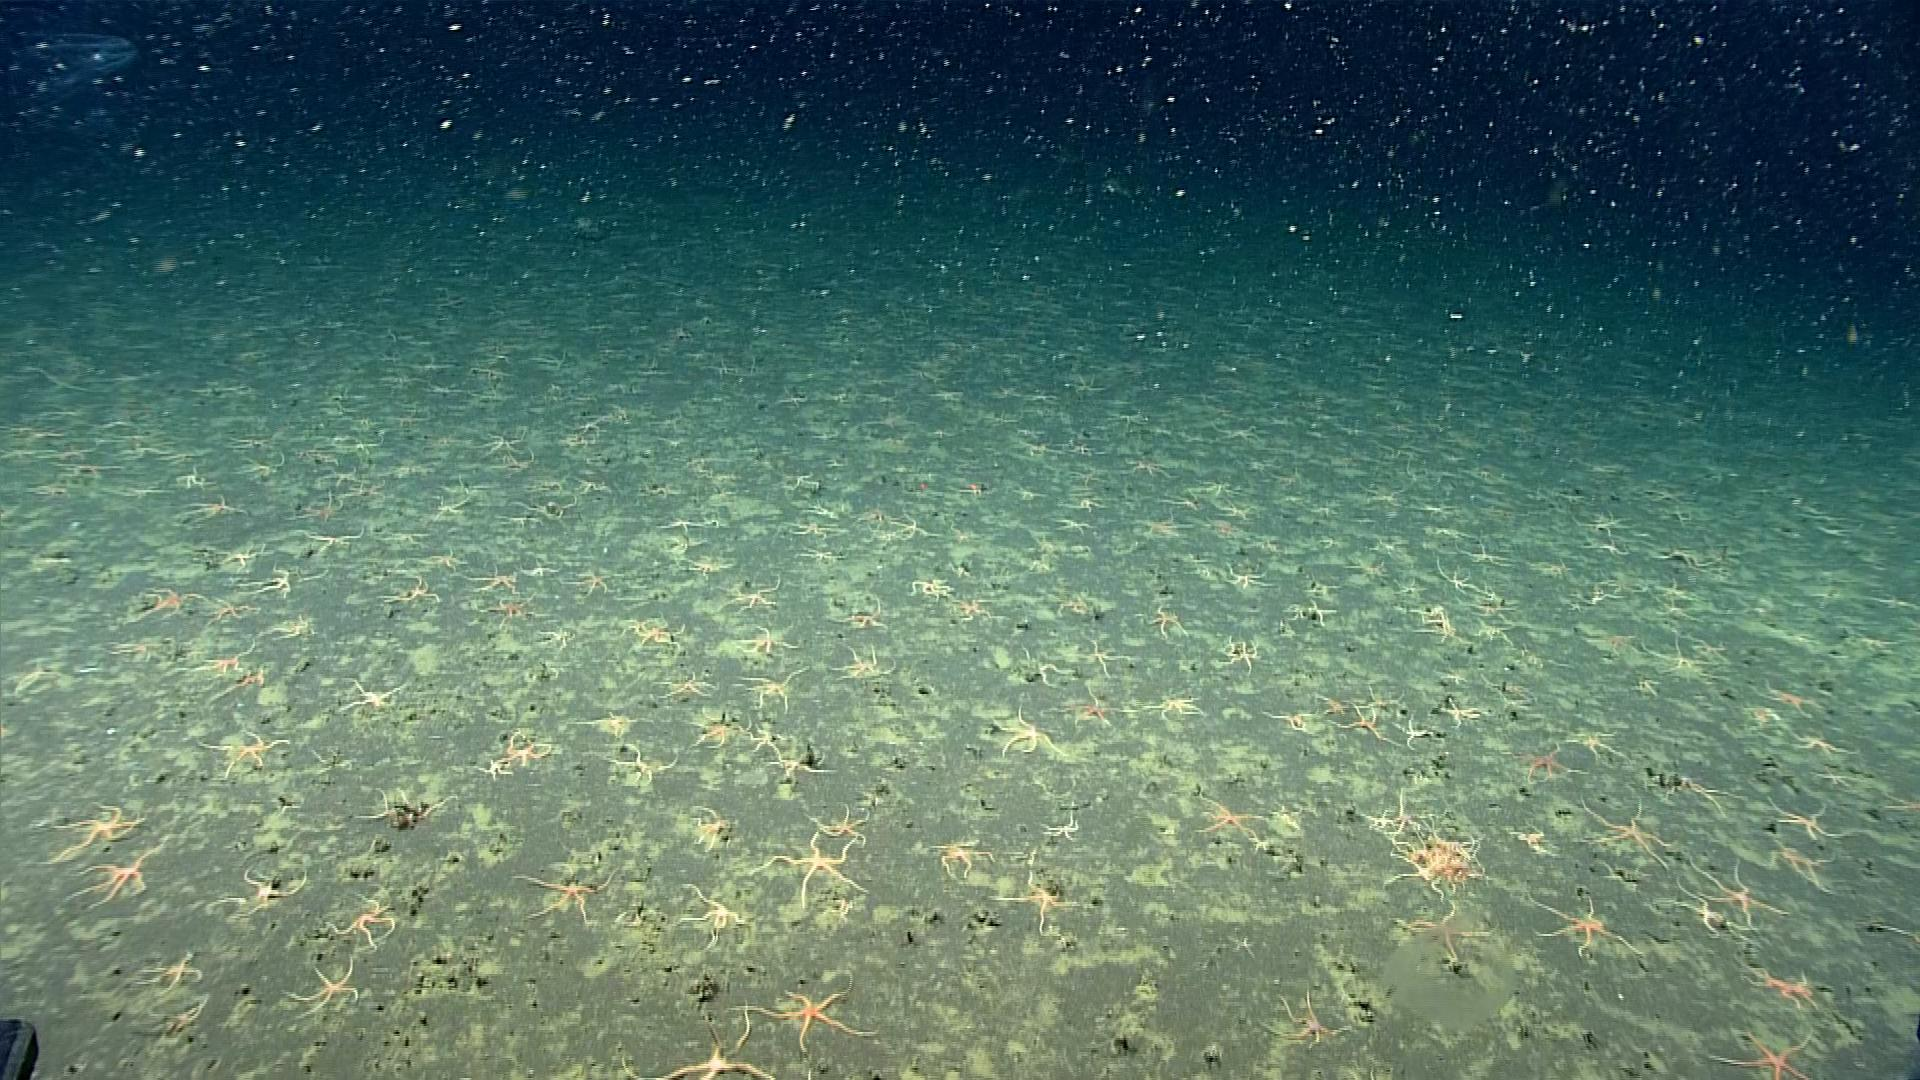brittle_sea_star: (615, 993, 781, 1079), (731, 976, 882, 1052), (748, 829, 869, 895), (1527, 893, 1644, 960), (1687, 858, 1792, 932), (1577, 795, 1675, 874), (1398, 898, 1501, 972), (58, 840, 170, 907), (512, 860, 620, 926), (38, 799, 146, 864), (1705, 1022, 1821, 1079), (988, 869, 1083, 935), (1257, 988, 1354, 1051), (207, 862, 314, 918), (280, 955, 365, 1022), (673, 882, 750, 952), (1760, 833, 1842, 899), (315, 889, 398, 953), (1656, 872, 1734, 939), (196, 725, 290, 781), (1733, 953, 1821, 1010), (988, 702, 1064, 758), (1659, 771, 1750, 819), (1193, 790, 1271, 839), (355, 790, 460, 825), (802, 798, 874, 848), (1063, 679, 1135, 729), (132, 948, 206, 997), (141, 992, 211, 1042), (1634, 632, 1712, 676), (1329, 702, 1403, 748), (737, 666, 812, 711), (1065, 630, 1133, 680), (1509, 738, 1586, 781), (927, 832, 994, 881), (1767, 795, 1837, 841), (117, 584, 204, 621), (331, 675, 411, 715), (476, 591, 555, 628), (609, 741, 678, 782), (1018, 644, 1073, 692), (1750, 682, 1825, 716), (181, 641, 261, 673), (207, 661, 269, 702), (1563, 727, 1631, 764), (733, 621, 799, 659), (1785, 728, 1862, 761), (177, 489, 247, 525), (715, 574, 782, 611), (290, 524, 365, 556), (771, 749, 837, 785), (1383, 844, 1439, 886), (1141, 687, 1211, 720), (1390, 782, 1432, 836), (1497, 818, 1556, 856), (688, 704, 738, 749), (827, 646, 899, 676), (375, 571, 440, 604), (651, 670, 720, 702), (289, 488, 345, 526), (1135, 600, 1189, 640), (1213, 633, 1263, 675), (235, 563, 295, 597), (498, 729, 553, 767), (1651, 539, 1722, 568), (459, 563, 521, 596), (886, 508, 940, 545), (202, 593, 260, 628), (504, 493, 579, 520), (690, 804, 732, 851), (1461, 535, 1518, 570), (827, 601, 890, 632), (255, 612, 316, 642), (1433, 559, 1484, 596), (574, 711, 640, 738), (1346, 683, 1408, 712), (1393, 709, 1436, 750), (1131, 514, 1197, 541), (1222, 558, 1275, 591), (1291, 595, 1340, 630), (742, 717, 785, 758), (211, 542, 276, 568), (1433, 694, 1480, 731), (409, 542, 468, 570), (1261, 707, 1319, 735), (1580, 506, 1636, 534), (1472, 617, 1520, 649), (1038, 804, 1080, 840), (429, 492, 473, 525), (655, 510, 717, 534), (1465, 599, 1522, 624), (562, 571, 615, 597), (471, 430, 526, 455), (1809, 765, 1865, 790), (636, 622, 687, 649), (679, 553, 733, 578), (1050, 588, 1091, 621), (1344, 558, 1394, 584), (787, 518, 845, 541), (1209, 496, 1261, 521), (905, 574, 953, 600), (1187, 473, 1241, 497), (952, 596, 994, 625), (1312, 691, 1354, 720), (107, 636, 165, 655), (1360, 483, 1403, 509), (1121, 456, 1170, 479), (1158, 489, 1203, 513), (1493, 688, 1535, 713), (568, 473, 612, 497), (1418, 616, 1461, 640), (1414, 496, 1457, 520), (1299, 575, 1344, 597), (345, 479, 388, 502), (1538, 551, 1577, 576), (1423, 521, 1472, 541), (1406, 600, 1448, 622), (473, 757, 513, 781), (1226, 934, 1263, 959), (1360, 806, 1395, 831), (319, 465, 364, 485), (1589, 538, 1630, 559), (1580, 583, 1621, 604), (1656, 601, 1700, 621), (1655, 575, 1689, 600), (796, 545, 843, 563), (1365, 533, 1400, 556), (1390, 576, 1427, 599), (1625, 674, 1660, 696), (1631, 578, 1656, 600), (1473, 585, 1506, 601), (1319, 534, 1337, 549)
